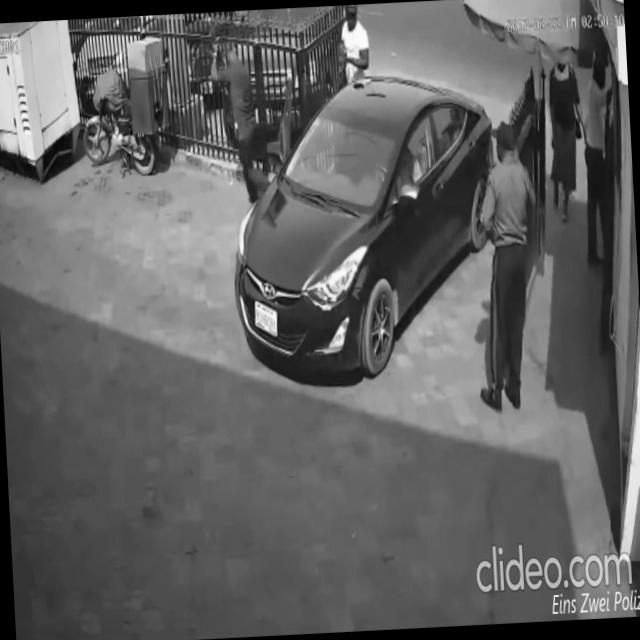gun: (202, 29, 232, 89), (336, 41, 349, 77)
person: (465, 117, 549, 420), (574, 51, 628, 276), (542, 46, 590, 226)
person with a gun: (203, 28, 278, 217), (333, 3, 372, 102)
